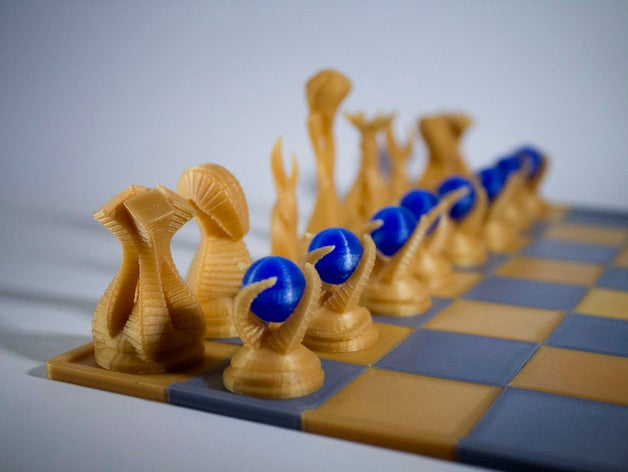Good: (64, 148, 389, 417)
